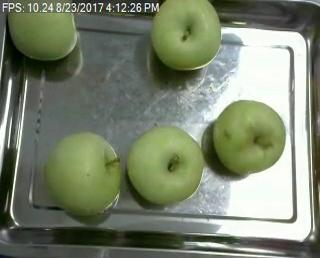fruit: (39, 125, 124, 224), (128, 115, 207, 206), (210, 96, 284, 177)
